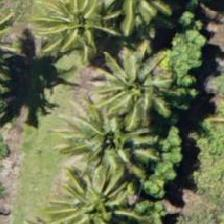coconut_tree: (86, 39, 176, 129), (61, 87, 151, 177), (33, 0, 123, 71), (46, 157, 136, 223)
